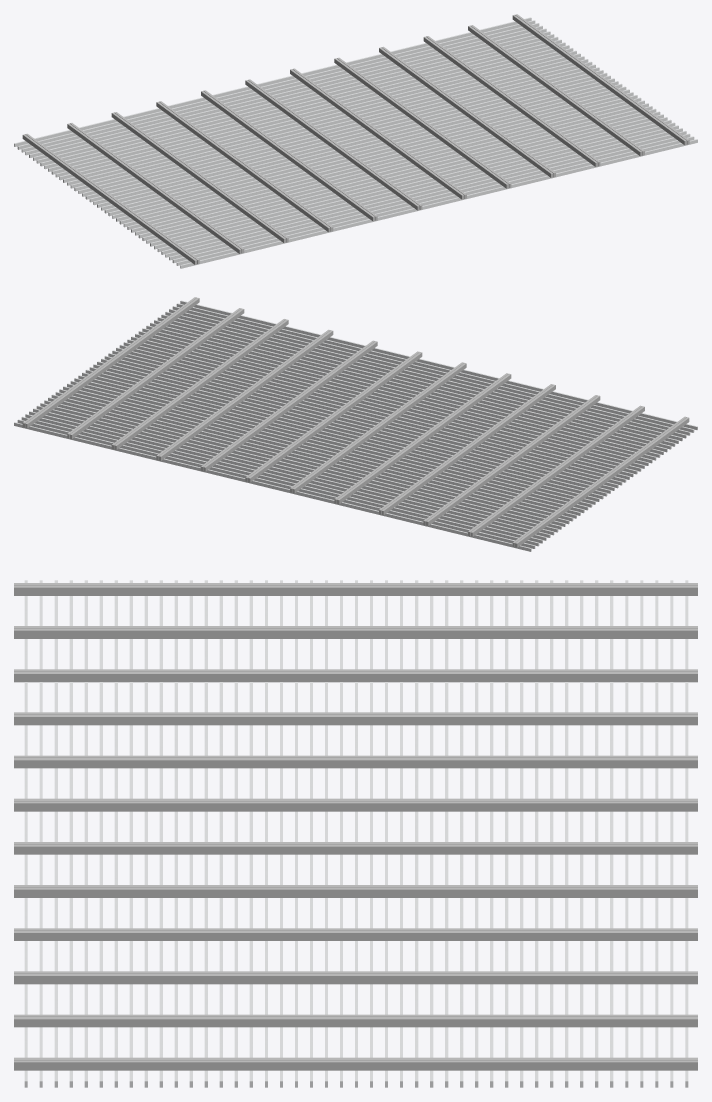
The model's file is Gallery_Ceiling.FBX.
The picture shows the model from 3 angles, top to bottom: view 1: azimuth 30°, elevation 25°; view 2: azimuth 150°, elevation 25°; view 3: azimuth 270°, elevation 25°; orthographic projection. The views are drawn at different scales.
Parts seen in each view (by area): view 1: Gallery_Ceiling; view 2: Gallery_Ceiling; view 3: Gallery_Ceiling.
Part boxes in pixels (left/top/right/bottom): Gallery_Ceiling: left=14, top=14, right=697, bottom=268; Gallery_Ceiling: left=14, top=297, right=697, bottom=551; Gallery_Ceiling: left=14, top=580, right=697, bottom=1087.
Bounding box in the file's own units: 2600 × 34.98 × 1500.
